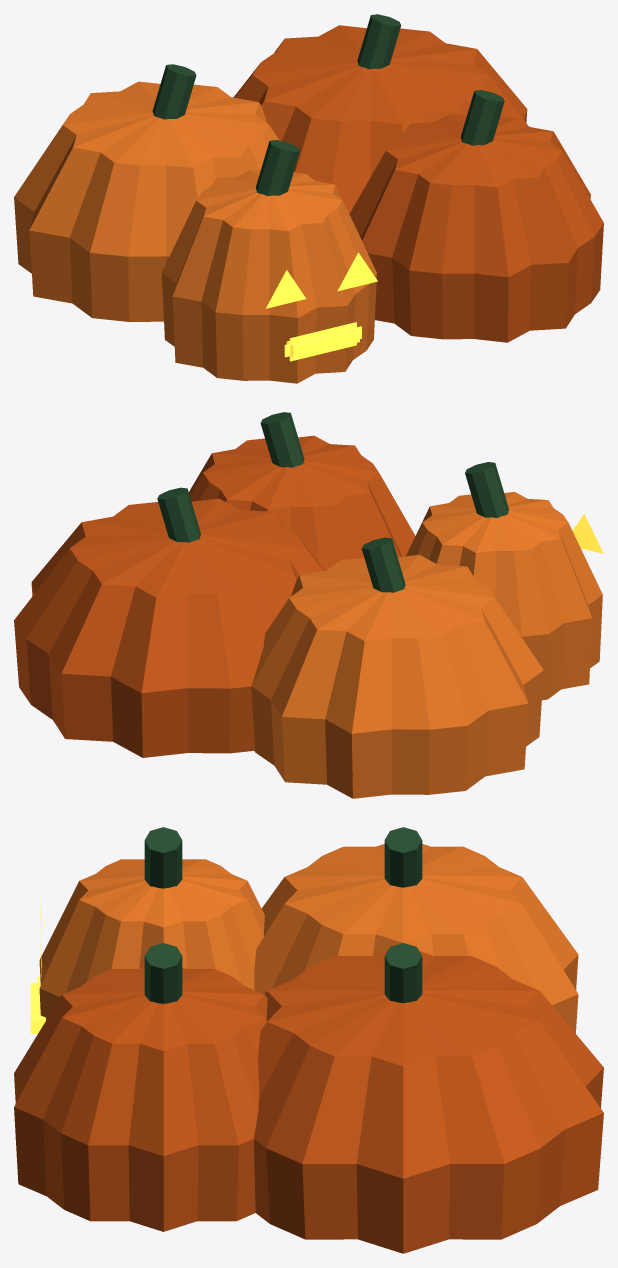
Rendered from pumpkins.glb.
The picture shows the model from 3 angles, top to bottom: view 1: azimuth 30°, elevation 25°; view 2: azimuth 150°, elevation 25°; view 3: azimuth 270°, elevation 25°; orthographic projection. The views are drawn at different scales.
Visible parts, largest first — view 1: Harvest pumpkins and jack lanternsMesh; view 2: Harvest pumpkins and jack lanternsMesh; view 3: Harvest pumpkins and jack lanternsMesh.
Part boxes in pixels (left/top/right/bottom): Harvest pumpkins and jack lanternsMesh: left=14, top=14, right=603, bottom=383; Harvest pumpkins and jack lanternsMesh: left=14, top=412, right=603, bottom=798; Harvest pumpkins and jack lanternsMesh: left=14, top=827, right=603, bottom=1253.
Bounding box in the file's own units: 1.95 × 0.8274 × 1.72.
